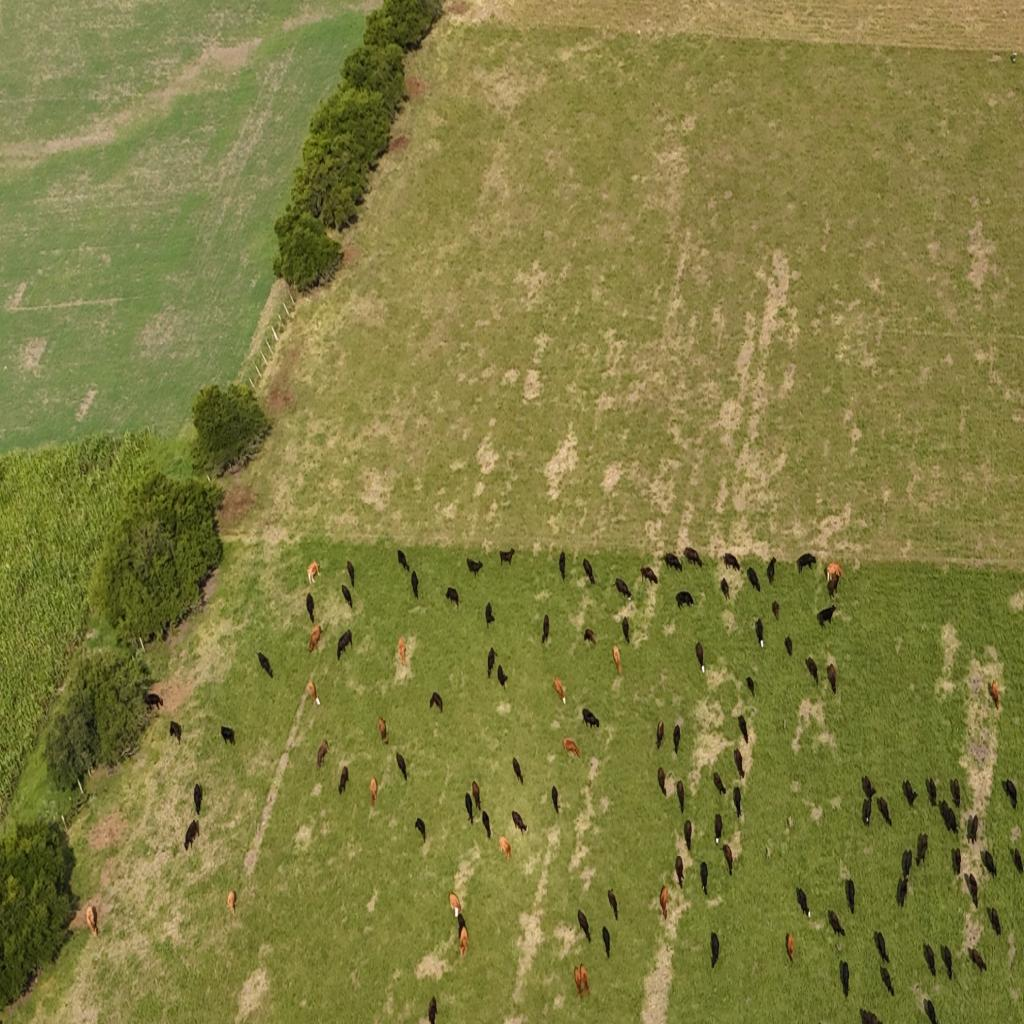cow: (873, 930, 889, 964), (826, 561, 844, 590), (828, 908, 845, 938), (578, 908, 592, 944), (923, 943, 937, 979), (184, 819, 199, 852), (879, 964, 894, 997), (817, 604, 837, 628), (902, 780, 918, 810), (969, 945, 986, 973), (256, 652, 274, 678), (337, 630, 352, 661), (1002, 778, 1017, 809), (916, 831, 929, 866), (307, 680, 322, 710), (982, 850, 997, 880), (861, 775, 876, 805), (796, 886, 810, 918), (86, 904, 99, 938), (308, 623, 322, 654), (614, 578, 632, 602), (941, 944, 953, 980), (988, 906, 1002, 936), (878, 796, 892, 826), (316, 740, 329, 772), (896, 876, 908, 910), (512, 809, 527, 836), (144, 692, 164, 712), (796, 553, 816, 573), (663, 553, 683, 573), (582, 708, 600, 730), (684, 547, 702, 569), (640, 565, 658, 587), (826, 662, 838, 695), (563, 737, 580, 760), (840, 959, 850, 998), (901, 848, 913, 880), (710, 931, 720, 969), (968, 874, 979, 908), (553, 677, 566, 705), (306, 560, 320, 586), (498, 836, 512, 862), (582, 558, 596, 584), (723, 552, 741, 572), (845, 878, 855, 914), (989, 680, 1001, 709), (512, 756, 524, 785), (675, 592, 694, 610), (396, 752, 407, 783), (968, 813, 979, 844), (926, 777, 937, 808), (466, 558, 483, 578), (723, 843, 733, 877), (695, 640, 705, 674), (608, 888, 618, 922), (747, 567, 760, 593), (924, 997, 937, 1023), (806, 656, 818, 684), (860, 1008, 881, 1024), (338, 765, 349, 795), (193, 782, 203, 815), (449, 891, 461, 918), (734, 746, 744, 778), (738, 714, 748, 746), (951, 778, 961, 810), (952, 847, 962, 879), (942, 800, 952, 832), (377, 716, 388, 745), (169, 720, 182, 744), (612, 644, 622, 675), (657, 766, 667, 797), (456, 912, 467, 940), (675, 854, 684, 888), (459, 924, 468, 958), (602, 925, 611, 959), (733, 785, 742, 819), (714, 812, 723, 846), (660, 884, 668, 922), (481, 810, 491, 840), (766, 556, 776, 586), (714, 772, 726, 797), (786, 931, 795, 964), (415, 817, 426, 844), (465, 792, 474, 825), (220, 725, 234, 746), (499, 548, 515, 566), (471, 779, 480, 811), (487, 646, 496, 678), (551, 784, 560, 816), (826, 576, 838, 600), (700, 860, 708, 896), (755, 617, 764, 649), (497, 664, 508, 690), (949, 808, 959, 836), (656, 719, 665, 750), (396, 549, 408, 572), (341, 584, 352, 609), (446, 587, 459, 608), (430, 692, 443, 713), (684, 818, 692, 852), (485, 601, 495, 628), (862, 797, 871, 827), (574, 966, 582, 999), (673, 722, 681, 755), (676, 780, 684, 813), (226, 890, 236, 916), (306, 592, 314, 624), (582, 964, 590, 996), (583, 628, 596, 647), (398, 636, 406, 666), (542, 614, 550, 644), (558, 551, 566, 581), (428, 995, 436, 1024), (746, 676, 756, 699), (346, 560, 354, 588), (411, 570, 419, 598), (622, 616, 630, 644), (720, 578, 730, 600), (370, 776, 377, 807), (784, 634, 793, 658), (1017, 847, 1024, 875), (772, 599, 780, 622)
